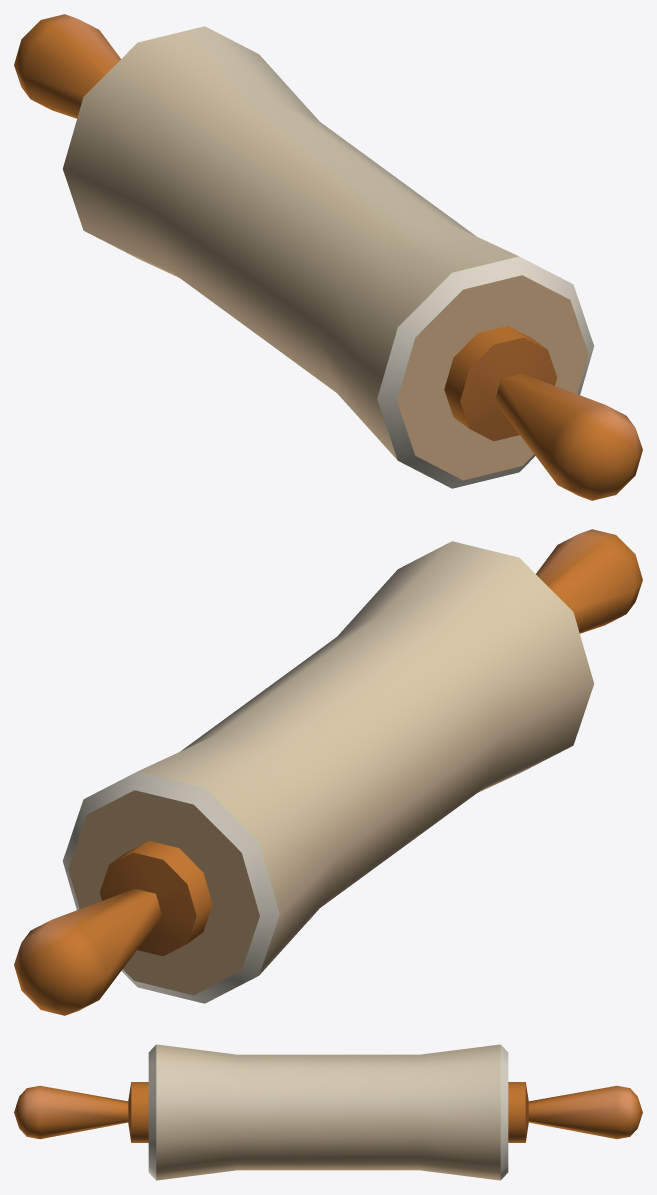
File: RestaurantRollingpin_8.glb
3 views of the same model, one above another, from view 1: azimuth 30°, elevation 25°; view 2: azimuth 150°, elevation 25°; view 3: azimuth 270°, elevation 25° (orthographic). The views are drawn at different scales.
Visible parts, largest first — view 1: RestaurantRollingpin; view 2: RestaurantRollingpin; view 3: RestaurantRollingpin.
Part boxes in pixels (x1,y1,x2,y2): RestaurantRollingpin: [14, 14, 642, 500]; RestaurantRollingpin: [14, 529, 642, 1015]; RestaurantRollingpin: [14, 1044, 642, 1180].
Size of the model in its own units: 0.1559 by 0.1483 by 0.7149.
